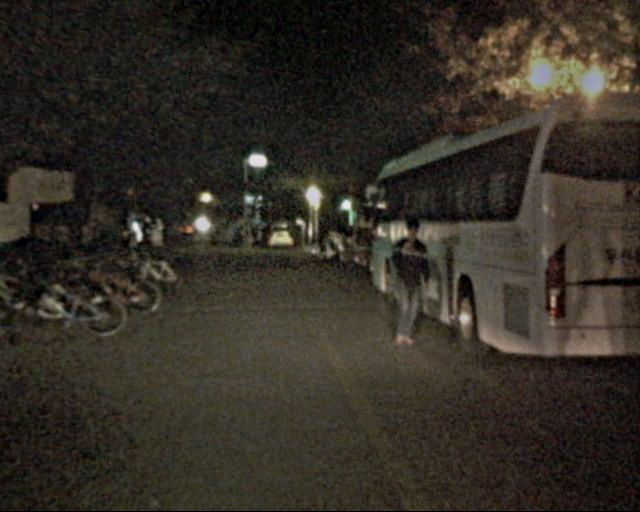person: (381, 220, 435, 351), (143, 213, 168, 274)
